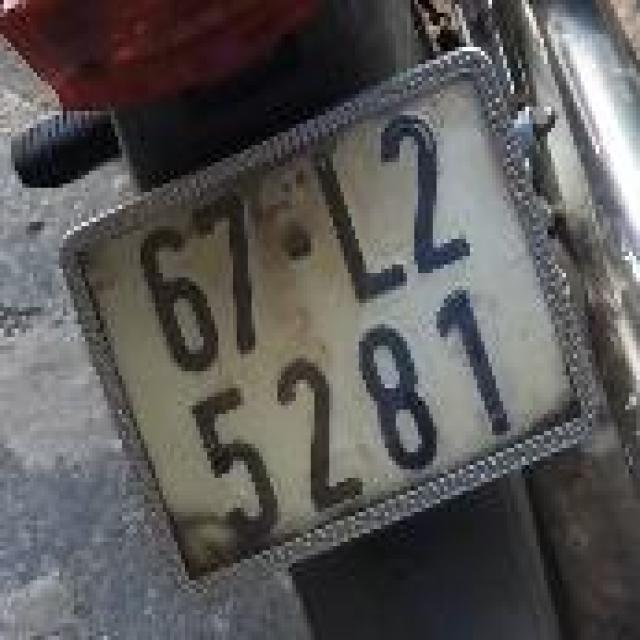1: (423, 274, 529, 450)
2: (364, 91, 484, 288), (261, 341, 376, 524)
5: (173, 366, 298, 558)
6: (124, 204, 232, 384)
7: (186, 176, 284, 368)
8: (340, 309, 464, 492)
L: (295, 116, 423, 318)
